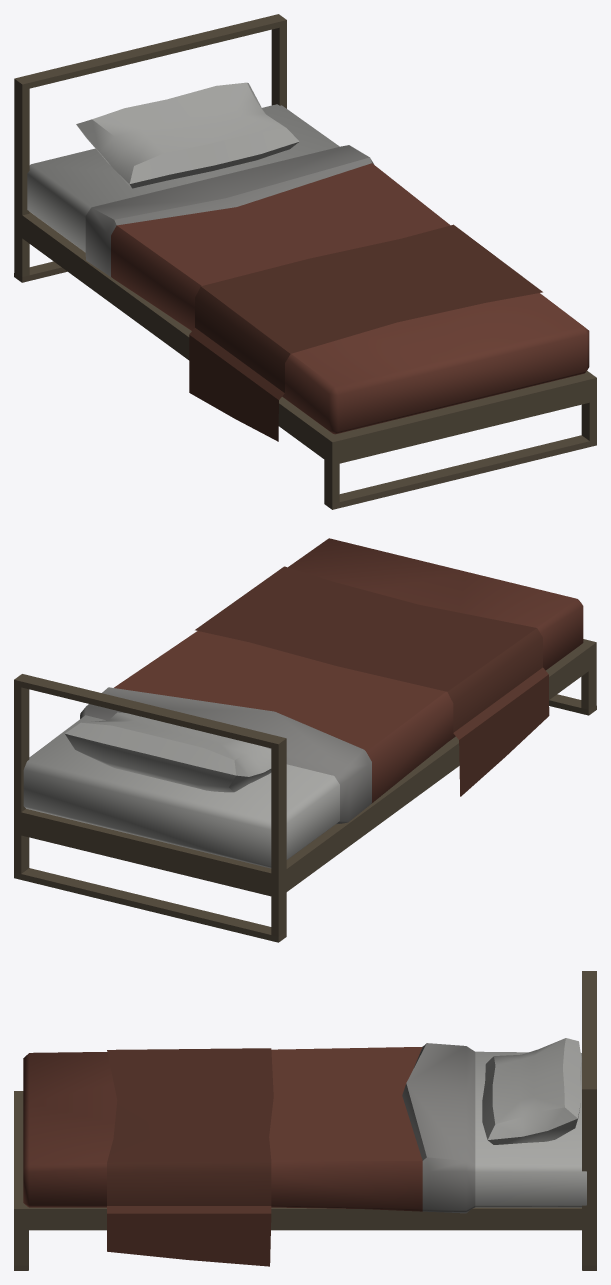
File: Bed_Single.glb
3 renders of one model, top to bottom at view 1: azimuth 30°, elevation 25°; view 2: azimuth 150°, elevation 25°; view 3: azimuth 270°, elevation 25°, orthographic. The views are drawn at different scales.
Visible parts, largest first — view 1: Bed_Single; view 2: Bed_Single; view 3: Bed_Single.
Boxes of the visible parts, x1,y1,x2,y2 form: Bed_Single: (14,14,596,509); Bed_Single: (14,538,596,942); Bed_Single: (14,971,596,1270).
Bounding box in the file's own units: 0.9678 × 0.6624 × 1.93.
Materials: 5 (5 with a texture image).
